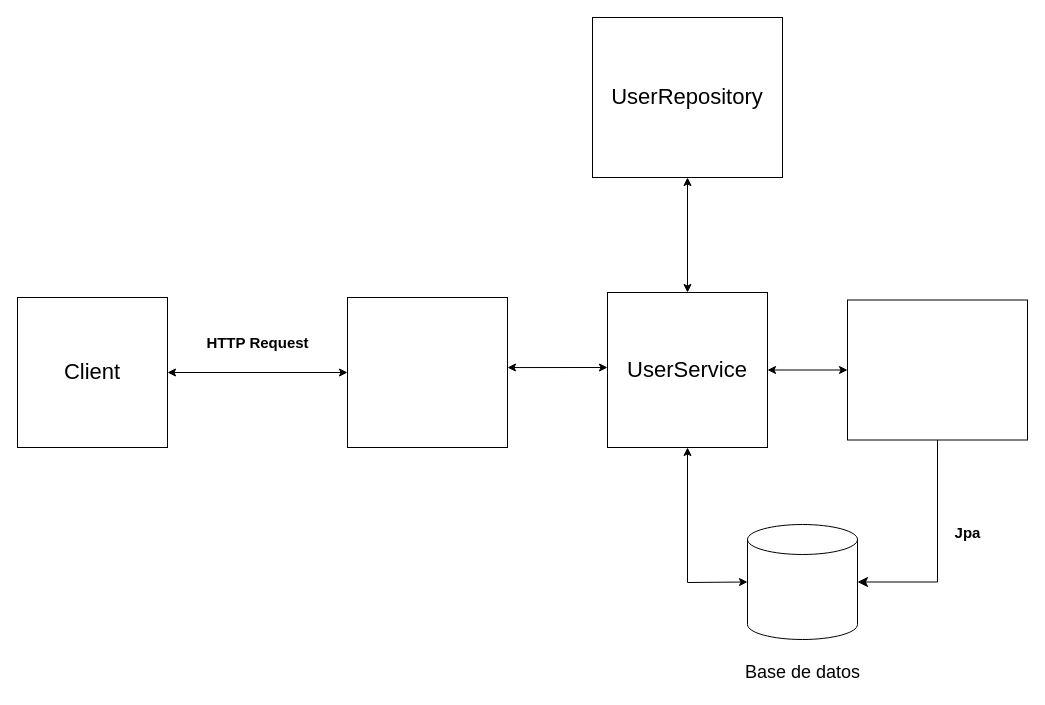
The diagram is 1045 pixels wide and 705 high, and some of its shapes have lost their labels. The centre of each missing label's shape, as x and y in pixels:
User: the point at 937,369
UserController: the point at 427,372
